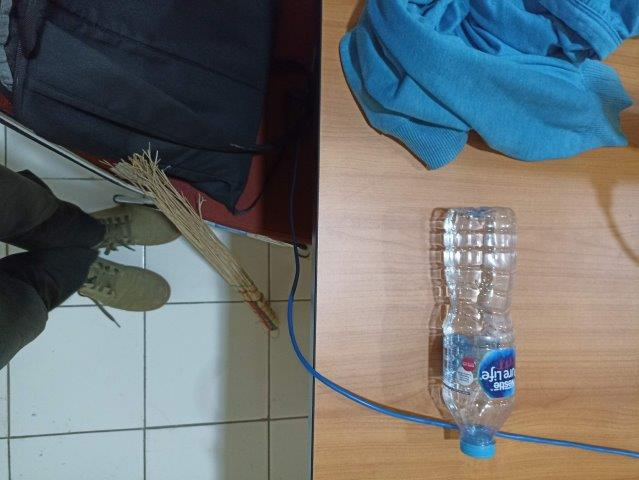botolplastik: (441, 204, 518, 457)
